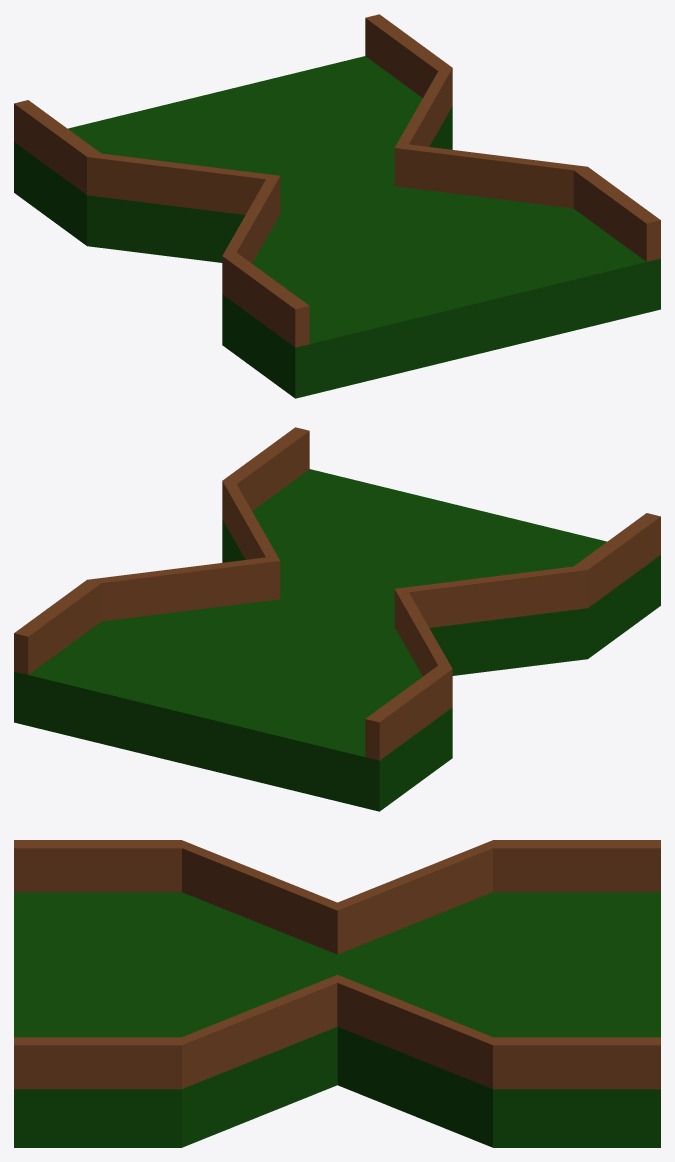
Rendered from minigolf_narrow.glb.
3 renders of one model, top to bottom at view 1: azimuth 30°, elevation 25°; view 2: azimuth 150°, elevation 25°; view 3: azimuth 270°, elevation 25°, orthographic. The views are drawn at different scales.
Visible parts, largest first — view 1: Narrow, Side.003; view 2: Narrow, Side.003; view 3: Narrow, Side.003.
Boxes of the visible parts, bbox=[...] form: Narrow: bbox=[14, 56, 660, 398]; Side.003: bbox=[14, 14, 660, 347]; Narrow: bbox=[14, 469, 660, 811]; Side.003: bbox=[14, 427, 660, 760]; Narrow: bbox=[14, 892, 660, 1147]; Side.003: bbox=[14, 840, 660, 1089].
Size of the model in its own units: 1.5 by 0.35 by 2.
